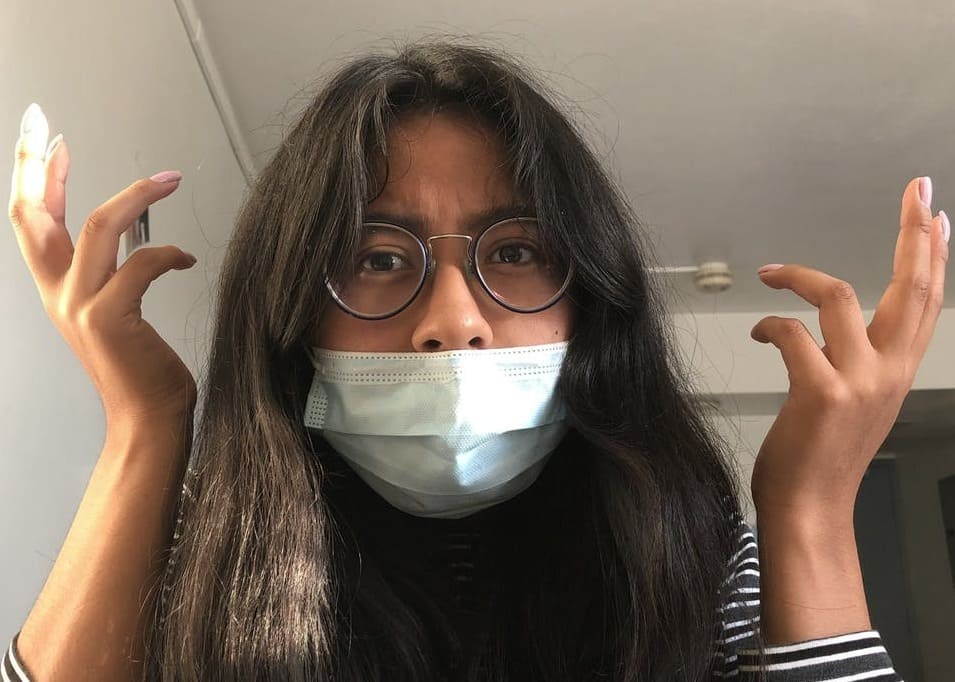with_incorrect_mask: (310, 140, 576, 517)
